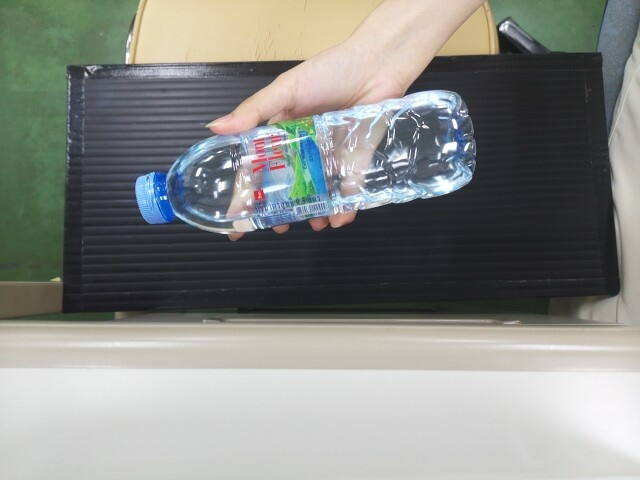plastic_bottle: (135, 103, 476, 224)
